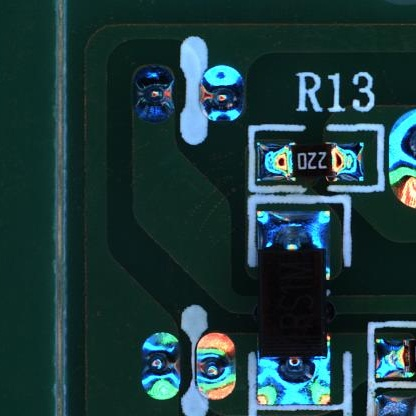spot: (195, 332, 237, 402), (140, 331, 182, 401), (388, 107, 416, 209), (199, 64, 246, 124), (131, 64, 176, 122)
